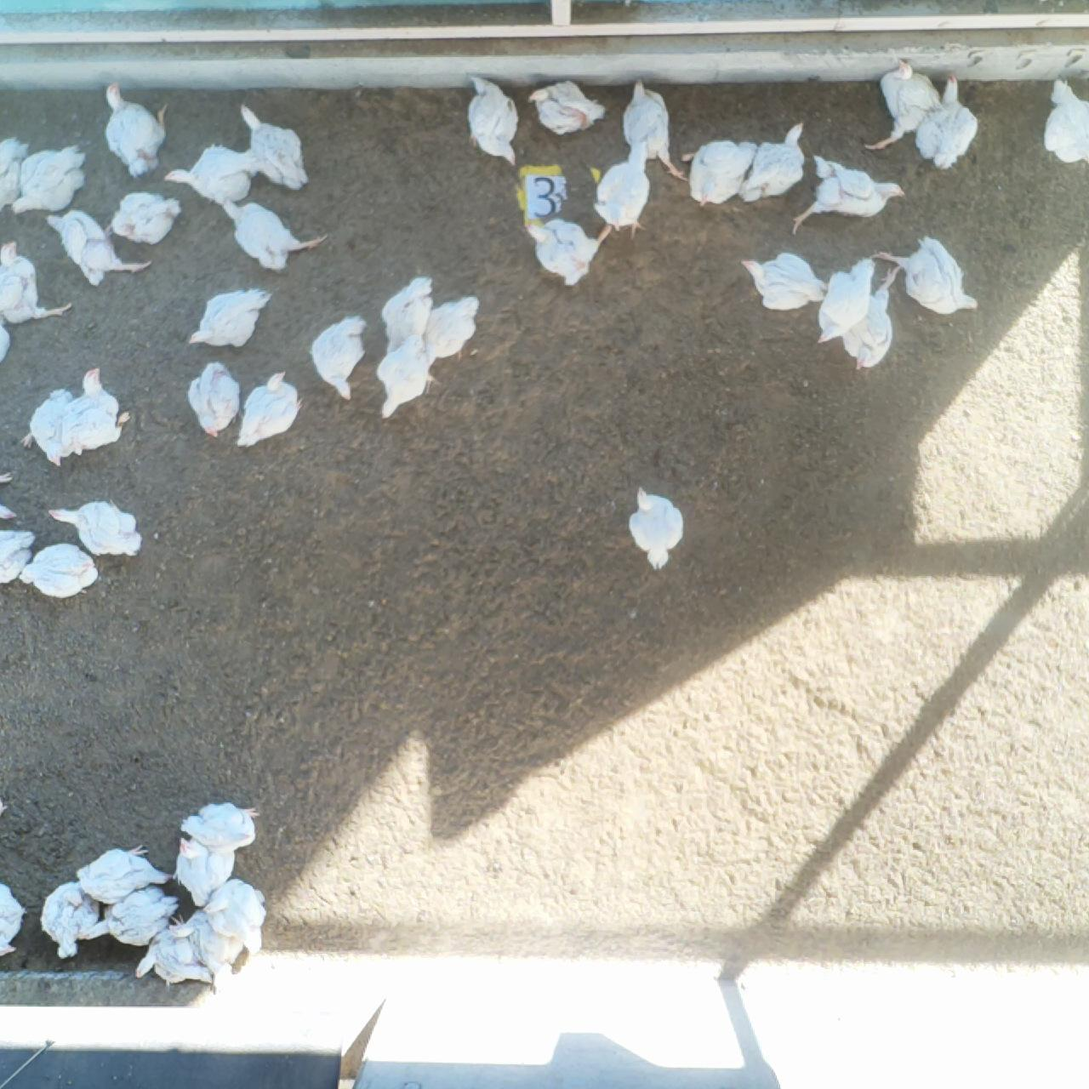chicken: (791, 152, 907, 233), (215, 197, 330, 271), (874, 237, 979, 316), (43, 210, 152, 286), (863, 59, 941, 153), (621, 78, 686, 180), (61, 368, 128, 465), (522, 218, 612, 288), (915, 75, 979, 172), (843, 264, 901, 368), (77, 887, 180, 944), (105, 84, 168, 177), (1, 242, 72, 324), (77, 846, 174, 903), (240, 105, 305, 188), (166, 144, 259, 202), (188, 289, 275, 351), (739, 252, 830, 311), (134, 928, 214, 995), (48, 499, 141, 556), (596, 140, 649, 238), (376, 336, 439, 418), (465, 72, 518, 169), (12, 145, 86, 214), (681, 140, 758, 206), (238, 371, 302, 450), (818, 258, 875, 345), (310, 315, 367, 400), (40, 882, 101, 961), (743, 123, 803, 203), (627, 487, 684, 569), (206, 879, 265, 957), (527, 79, 607, 134), (380, 276, 433, 358), (20, 543, 99, 598), (174, 837, 235, 907), (22, 389, 73, 470), (188, 362, 240, 440), (1044, 78, 1088, 165), (180, 802, 260, 848), (110, 191, 181, 242), (425, 296, 479, 362), (1, 138, 29, 214), (1, 886, 29, 961), (1, 530, 37, 585), (1, 471, 14, 518), (1, 324, 11, 362)
